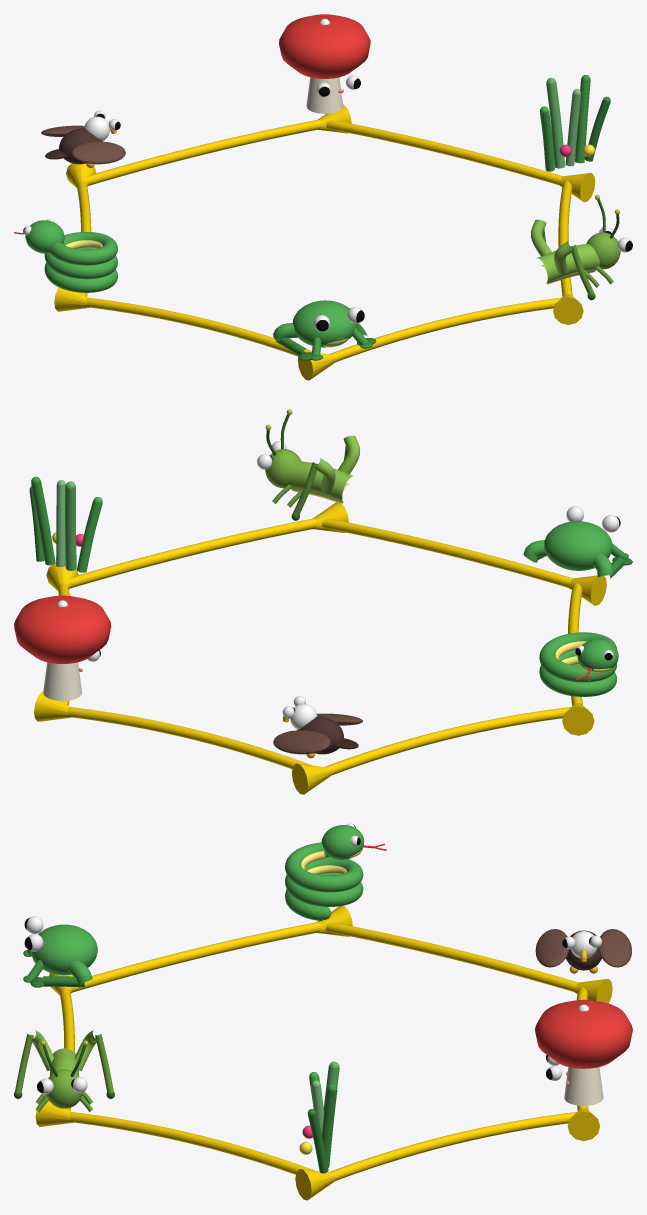
File: eco_darat_baked.glb
The picture shows the model from 3 angles, top to bottom: view 1: azimuth 30°, elevation 25°; view 2: azimuth 150°, elevation 25°; view 3: azimuth 270°, elevation 25°; orthographic projection. The views are drawn at different scales.
Parts seen in each view (by area): view 1: ecosystem_preset_group, object 14; view 2: ecosystem_preset_group, object 14; view 3: ecosystem_preset_group, object 14.
Part boxes in pixels (box(x1,y1,x2,y2)): ecosystem_preset_group: box(41, 14, 620, 380); object 14: box(25, 220, 64, 253); ecosystem_preset_group: box(14, 409, 632, 794); object 14: box(577, 639, 618, 673); ecosystem_preset_group: box(14, 842, 632, 1200); object 14: box(321, 825, 364, 859).
Size of the model in its own units: 5.13 by 1.02 by 4.54.
